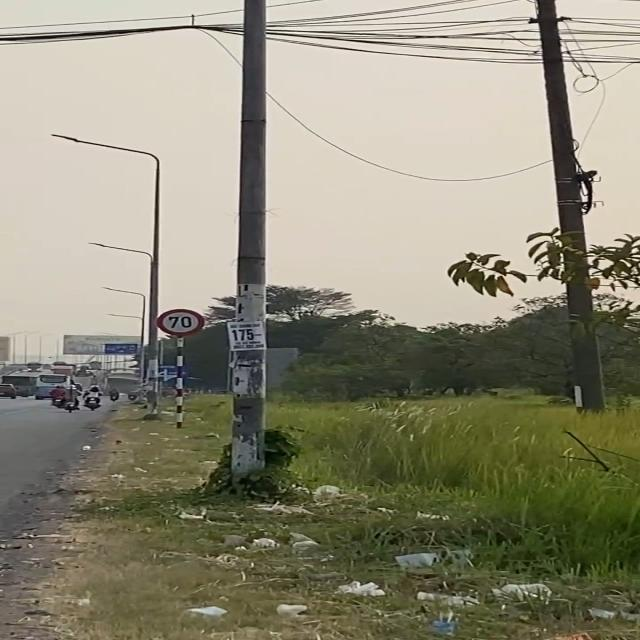127-toc-do-toi-da-70: (157, 308, 205, 337)
